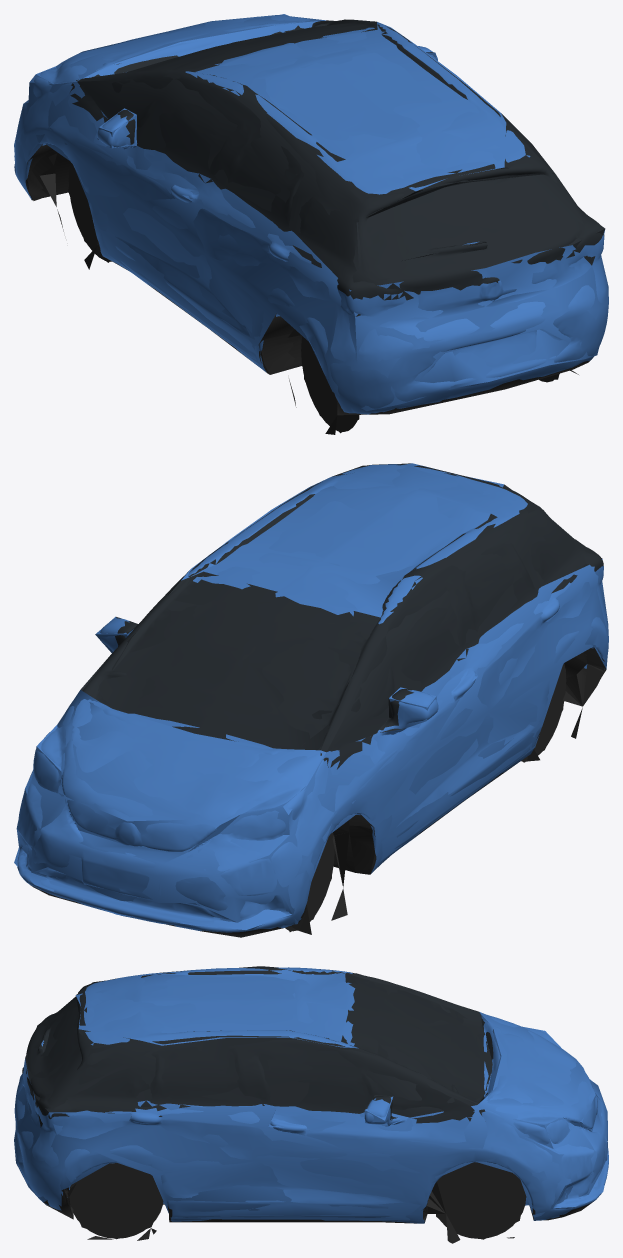
The model's file is honda-fit.glb.
The picture shows the model from 3 angles, top to bottom: view 1: azimuth 30°, elevation 25°; view 2: azimuth 150°, elevation 25°; view 3: azimuth 270°, elevation 25°; orthographic projection. The views are drawn at different scales.
Parts seen in each view (by area): view 1: body, far; view 2: body, far; view 3: body, far.
Boxes of the visible parts, x1=… form: body: x1=14, y1=15, x2=608, y2=434; far: x1=14, y1=14, x2=608, y2=434; body: x1=17, y1=464, x2=608, y2=937; far: x1=14, y1=463, x2=608, y2=933; body: x1=14, y1=967, x2=608, y2=1243; far: x1=14, y1=966, x2=608, y2=1239.
Size of the model in its own units: 2.05 by 1.52 by 4.07.
